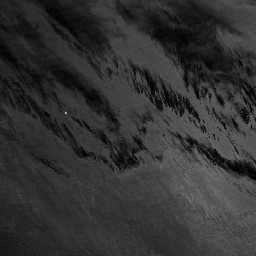Target: (63, 110, 68, 116)
